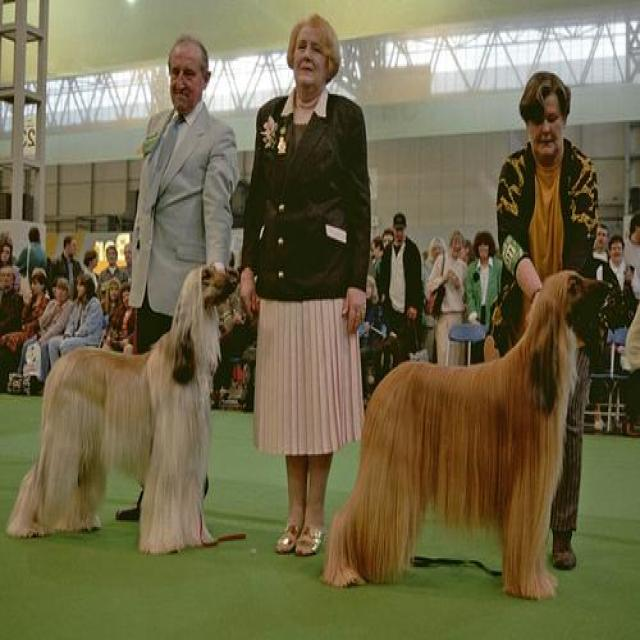afghan_hound: (322, 271, 614, 602), (5, 263, 239, 556)
